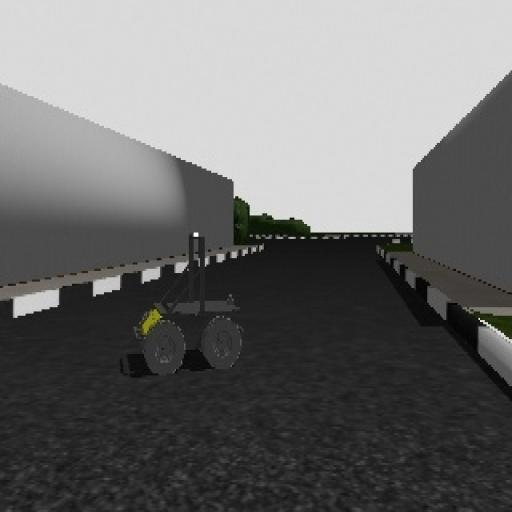huskya200: (132, 223, 268, 370)
